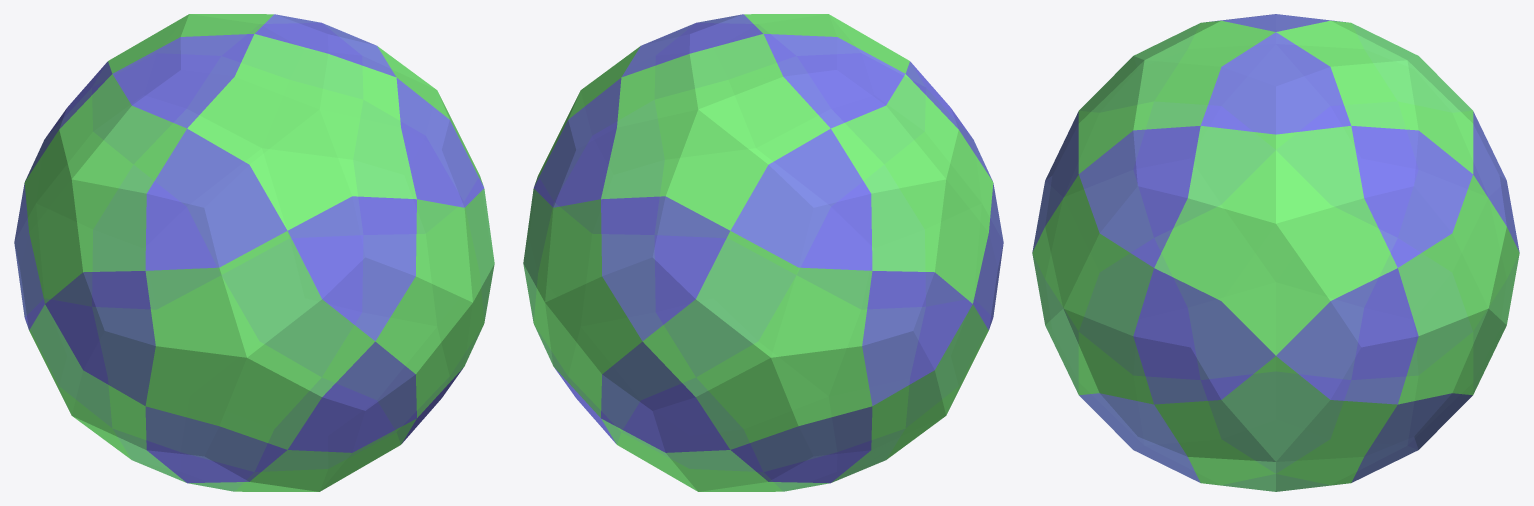
Rendered from JoinedRhombicosidodecahedron.obj.
The picture shows the model from 3 angles, left to right: view 1: azimuth 30°, elevation 25°; view 2: azimuth 150°, elevation 25°; view 3: azimuth 270°, elevation 25°; orthographic projection.
Size of the model in its own units: 4.47 by 4.47 by 4.47.
